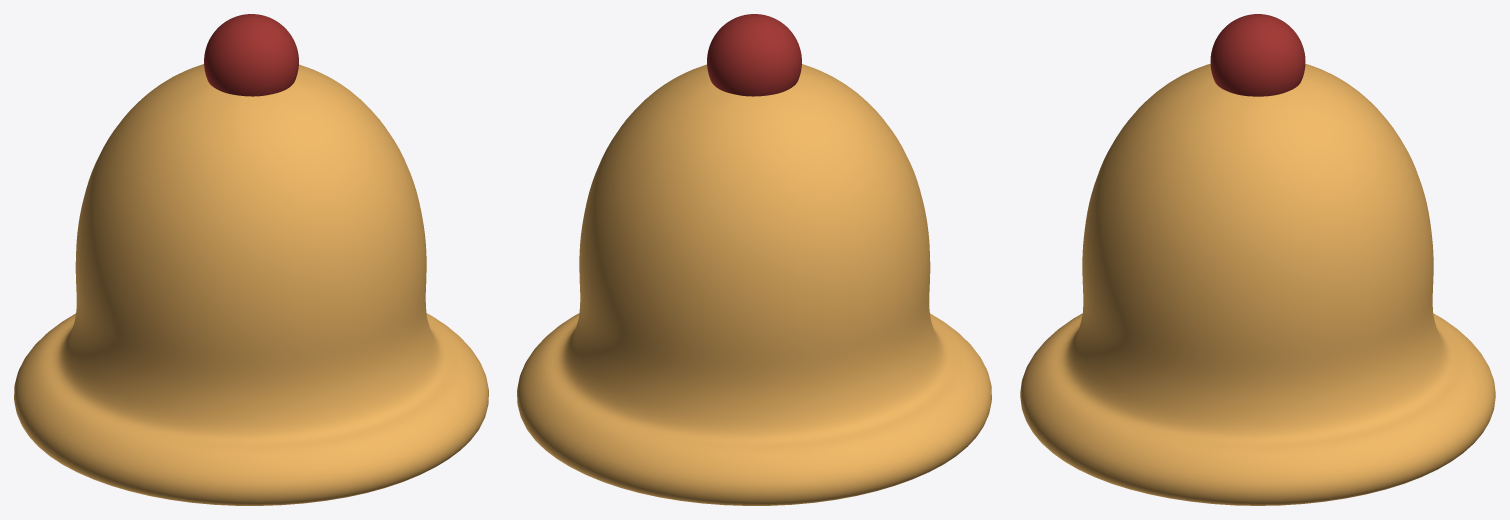
File: bell.glb
3 views of the same model, side by side, from view 1: azimuth 30°, elevation 25°; view 2: azimuth 150°, elevation 25°; view 3: azimuth 270°, elevation 25° (orthographic).
Visible parts, largest first — view 1: Cylinder, Sphere.001; view 2: Cylinder, Sphere.001; view 3: Cylinder, Sphere.001.
Part boxes in pixels (x1,y1,x2,y2): Cylinder: (14, 64, 488, 505); Sphere.001: (204, 14, 298, 96); Cylinder: (517, 64, 991, 505); Sphere.001: (707, 14, 801, 96); Cylinder: (1020, 63, 1495, 505); Sphere.001: (1210, 14, 1305, 96).
Size of the model in its own units: 3.43 by 3.77 by 3.43.
